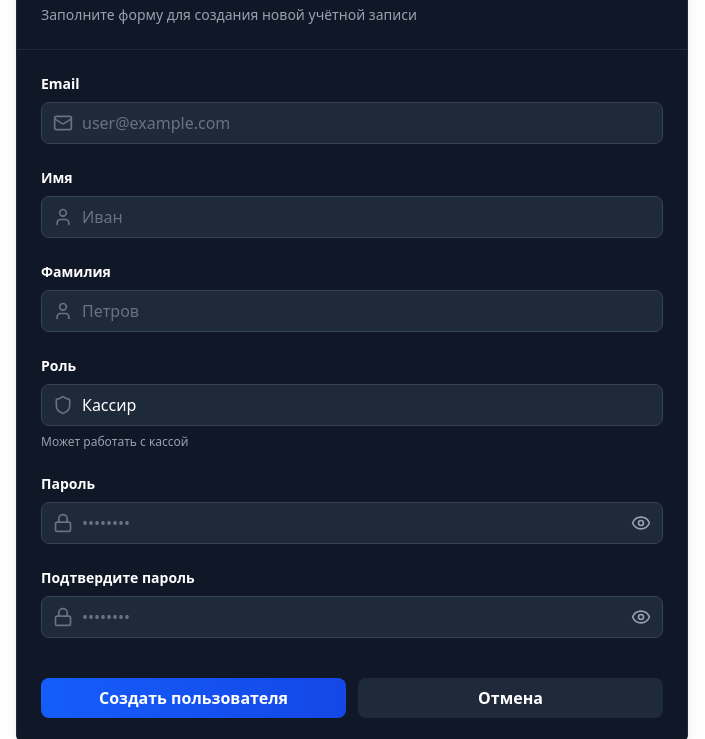
Test: UserCreateForm › User Interactions › clears email error when user starts typing
This screenshot has width=705, height=739.
(page scrolled)
Click the button "Создать пользователя" at [194, 698], box [41, 678, 346, 718]
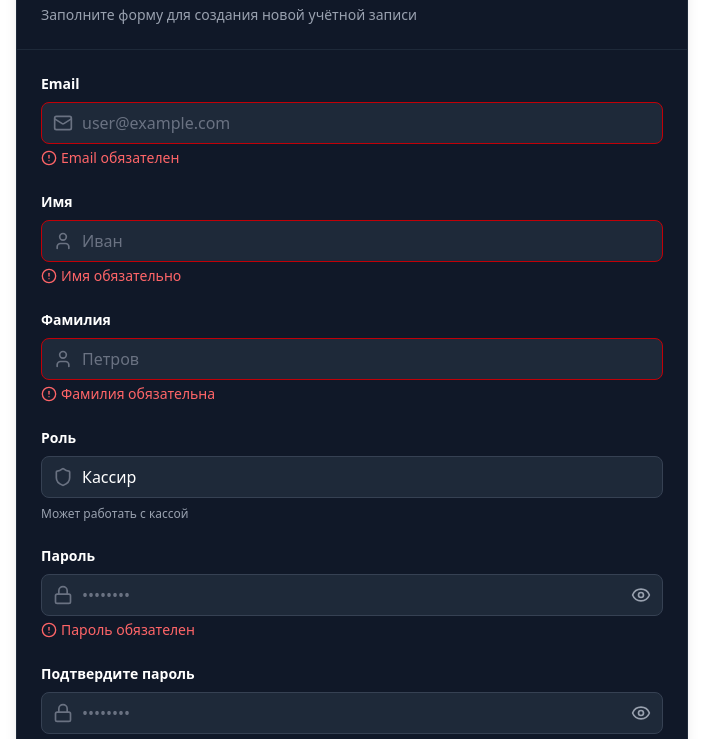
Expected: the text "Email обязателен" is shown, [41, 148, 179, 167]
Type "test" into the field labelled "Email" at [352, 123], box [41, 102, 663, 144]
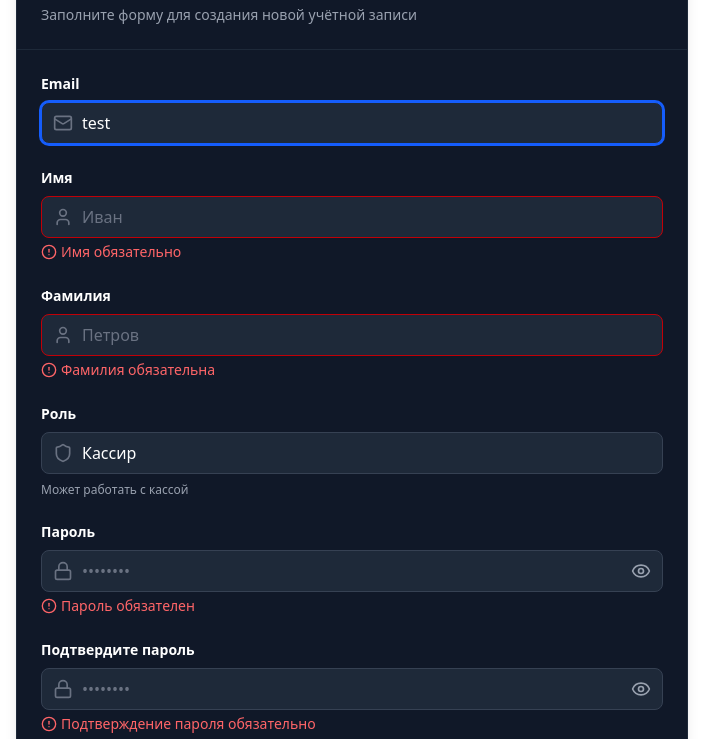
Expected: the text "Email обязателен" is gone
